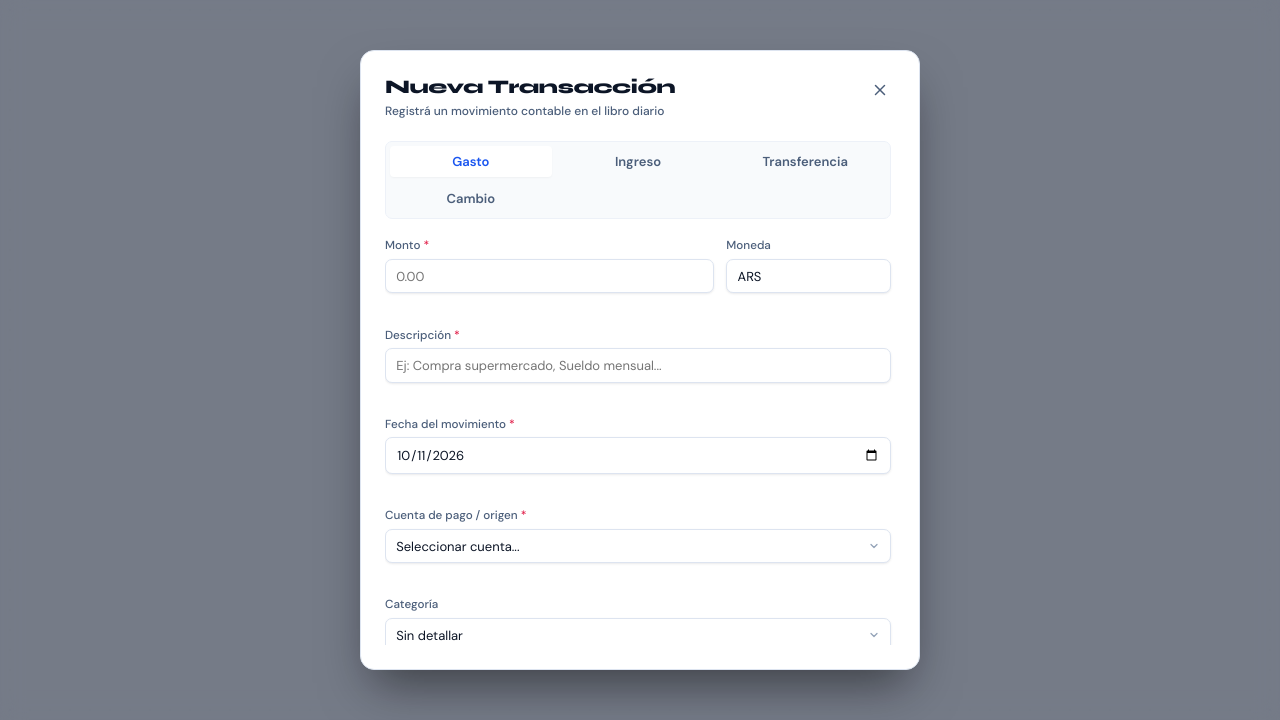
Test: TransactionFormModal - Reparto previsto › si nadie declaró su aporte avisa que se reparte por partes iguales
Type "100.01" into the number field labelled "Monto *". click: (550, 276)
box: [385,259,714,294]
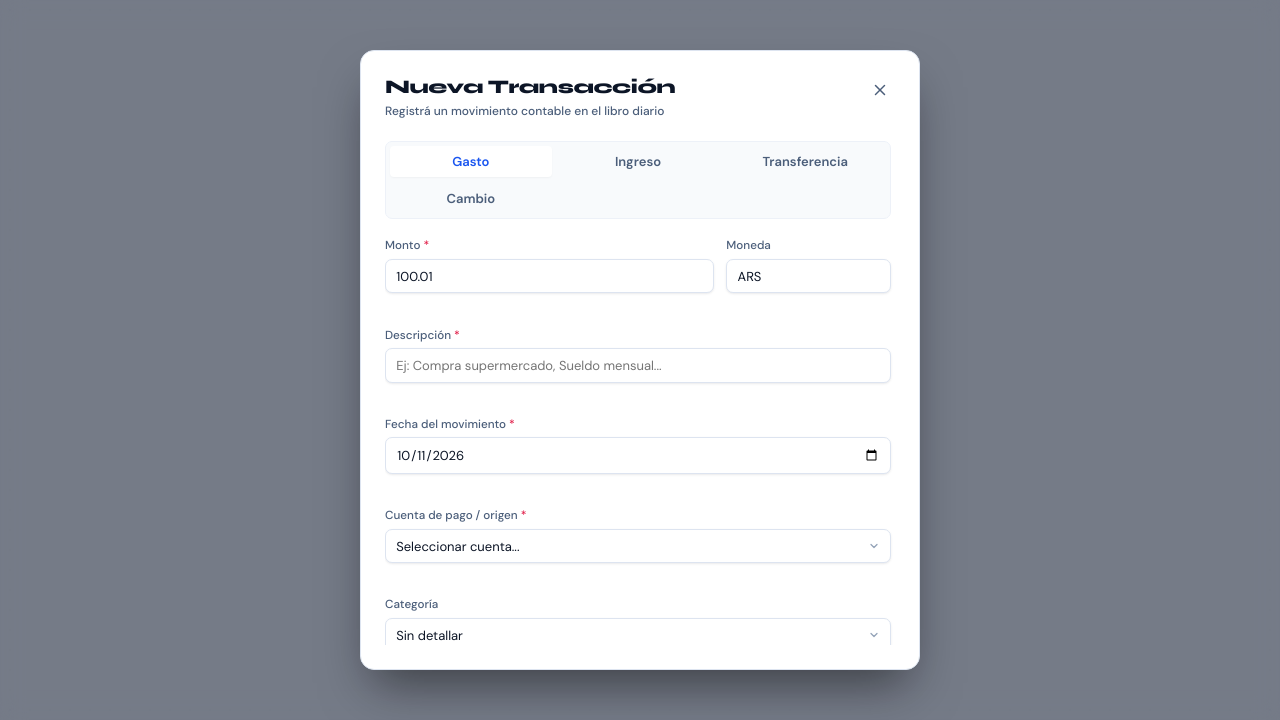
Select "Caja (asset)" in the dropdown labelled "Cuenta de pago / origen *". click: (638, 546)
box: [385,529,891,563]
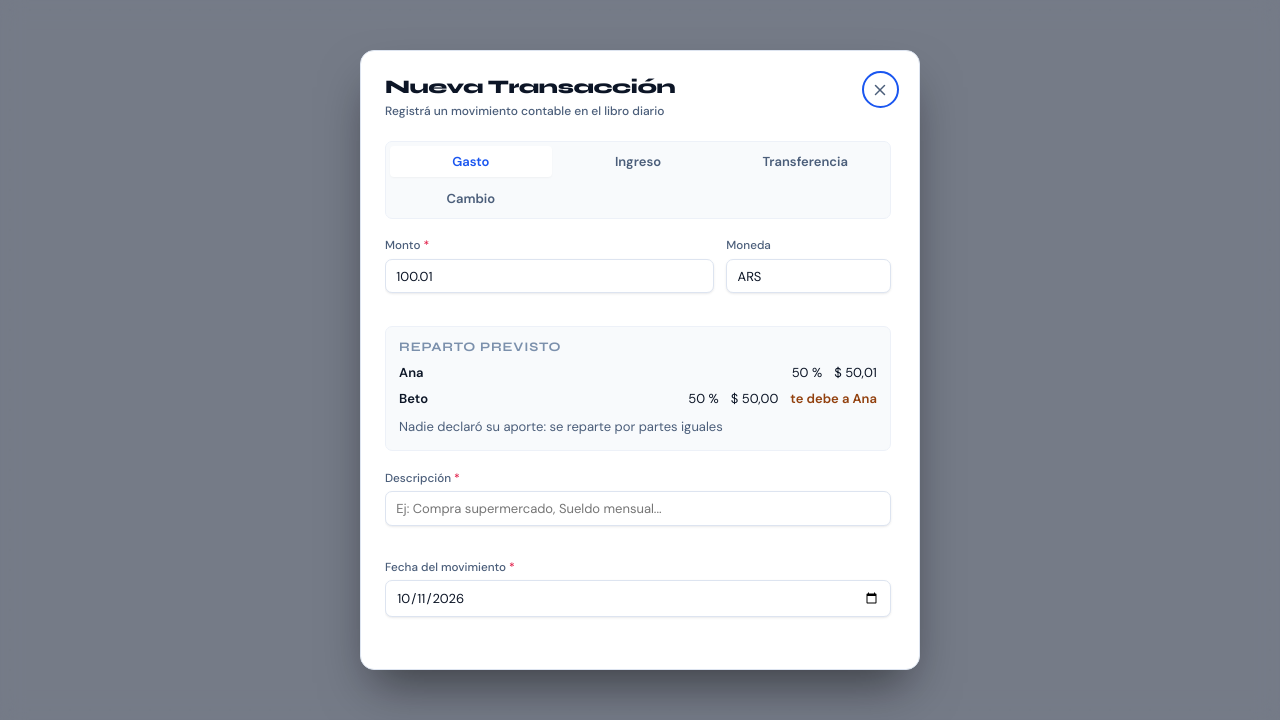
Now the text "Nadie declaró su aporte: se reparte por partes iguales" is shown, box [399,418,723,435]
